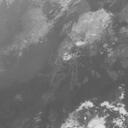cyclone: (48, 36, 115, 96)
